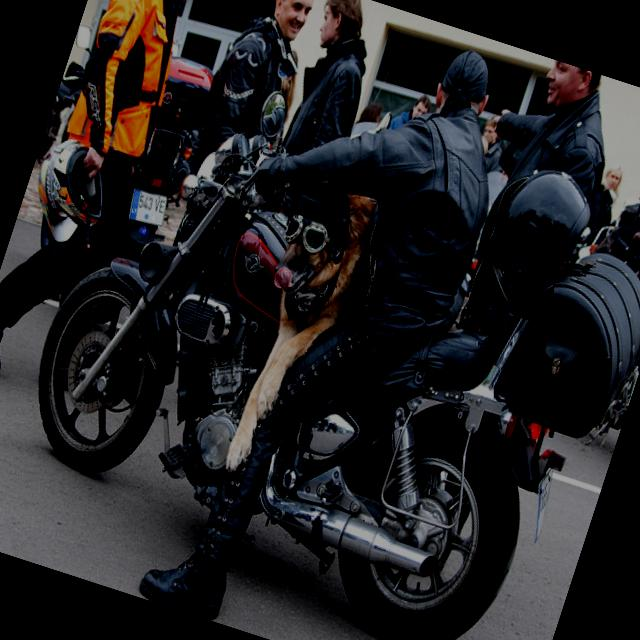Vehicle: (0, 45, 640, 640), (553, 218, 640, 355)
